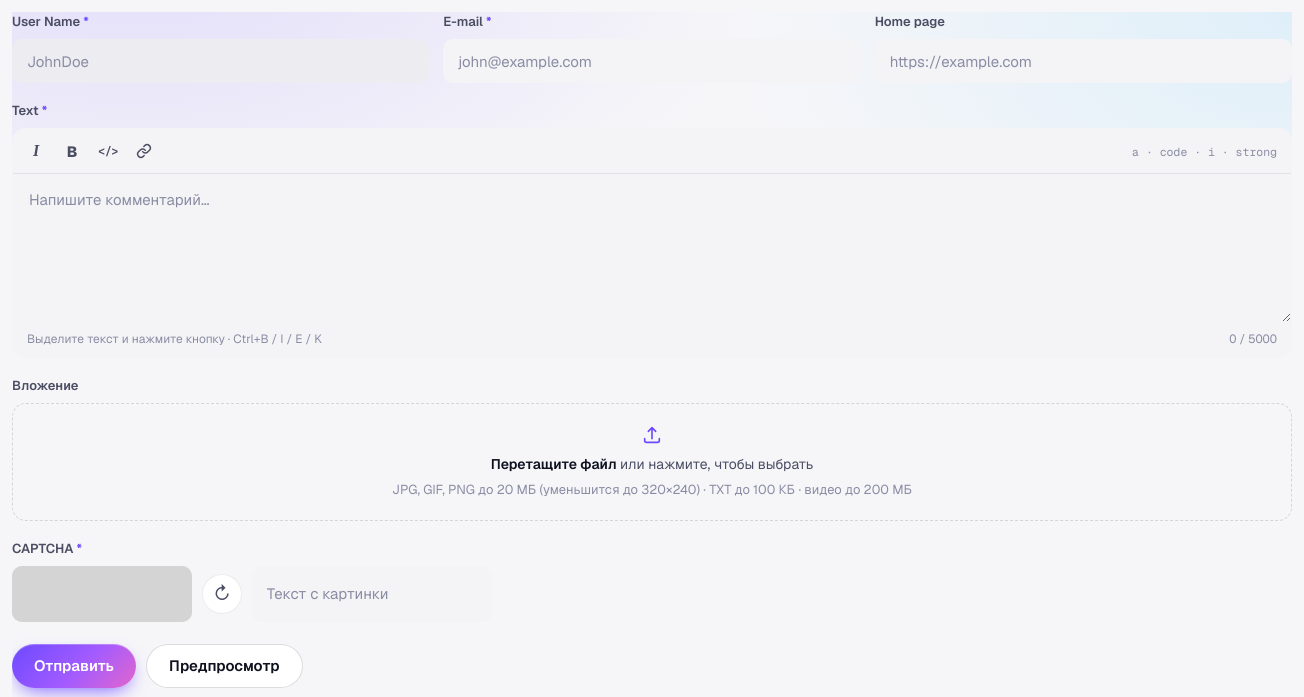
Test case: CommentForm › ошибки валидации сервера раскладываются по полям
Step 1. Type "  John1 " into the field with placeholder "JohnDoe" → (221, 61), box [12, 39, 429, 83]
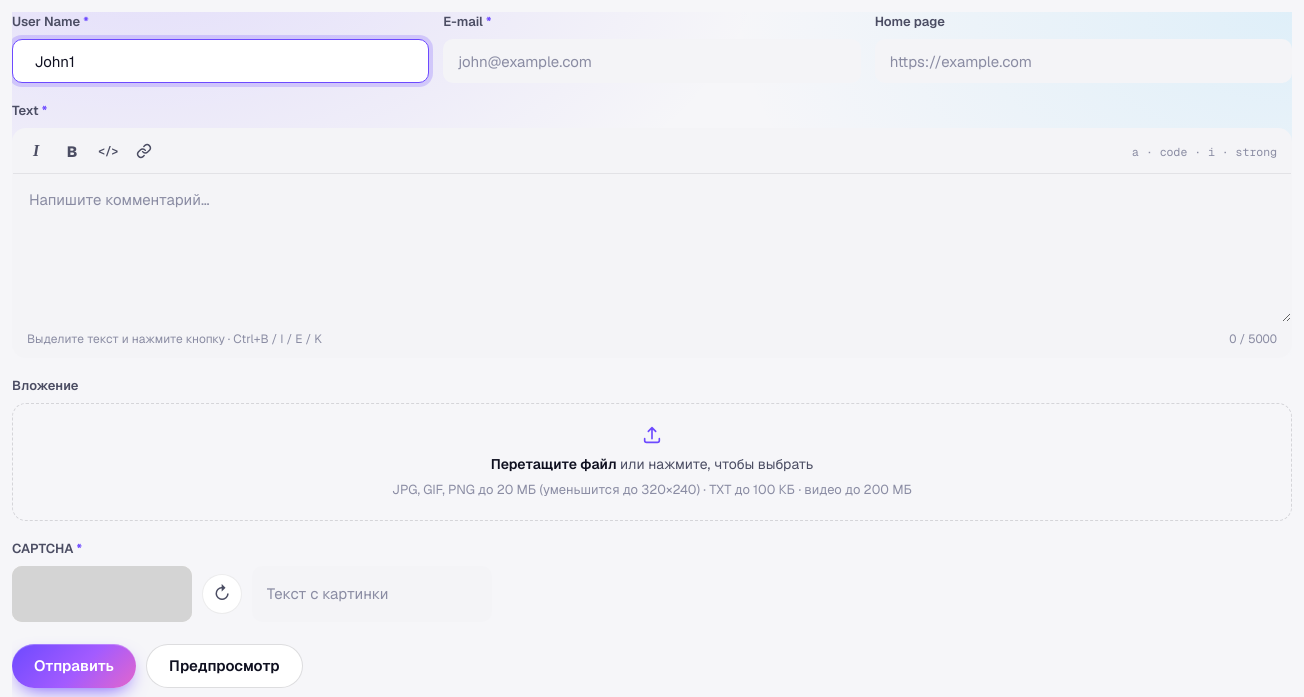
Step 2. Type "john@ex.com" into the field with placeholder "john@example.com" → (652, 61), box [443, 39, 861, 83]
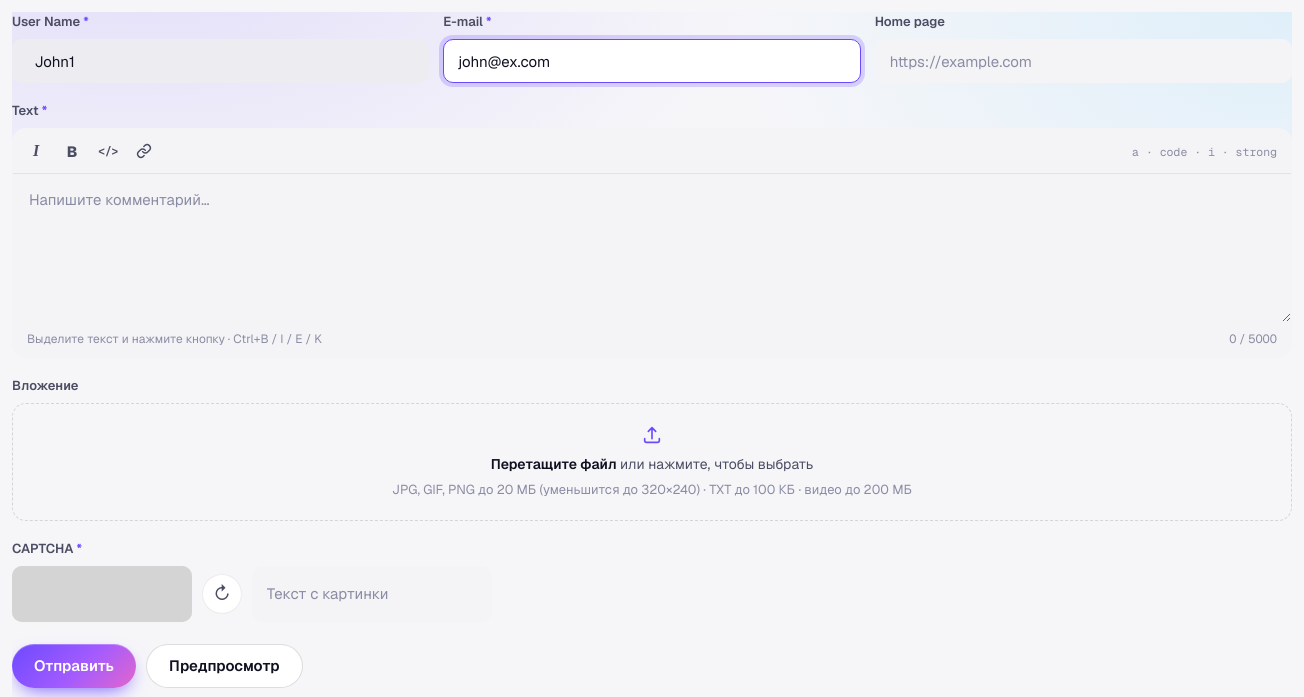
Step 3. Type "Hello <i>w</i>" into the text box labelled "Text *" → (652, 248), box [13, 174, 1291, 322]
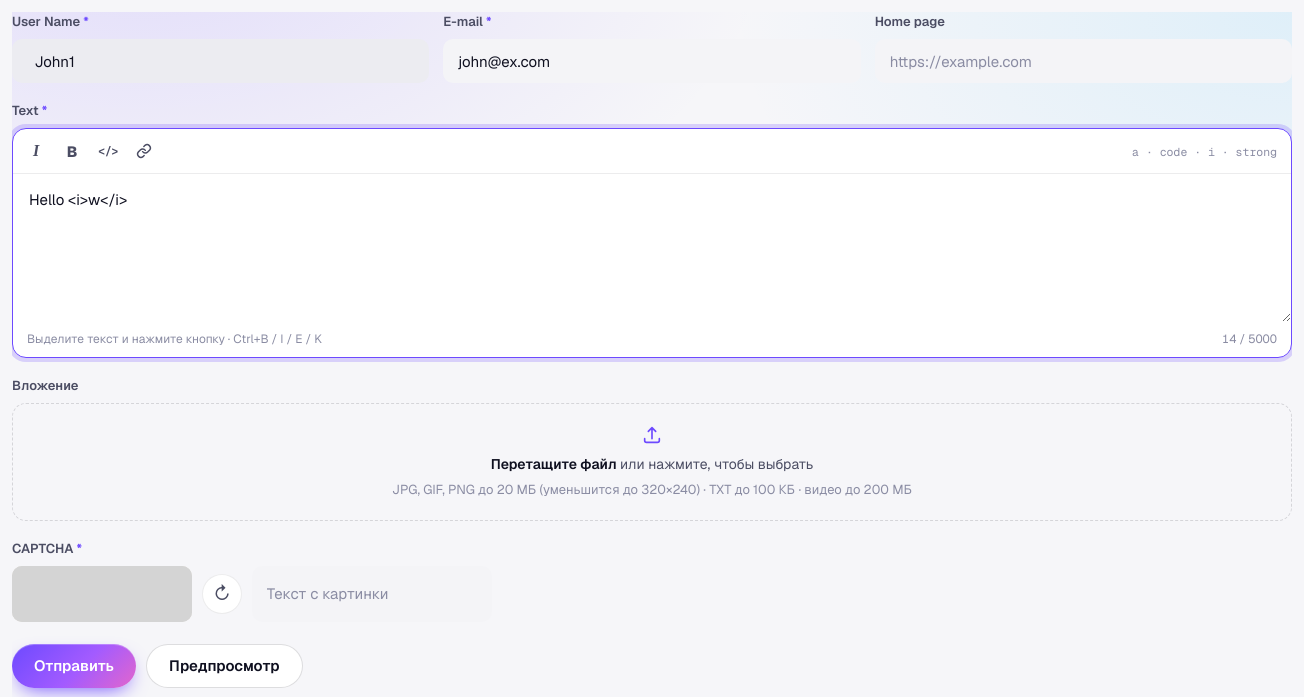
Step 4. Type " aB3 " into the field with placeholder "Текст с картинки" → (372, 594), box [252, 566, 492, 622]
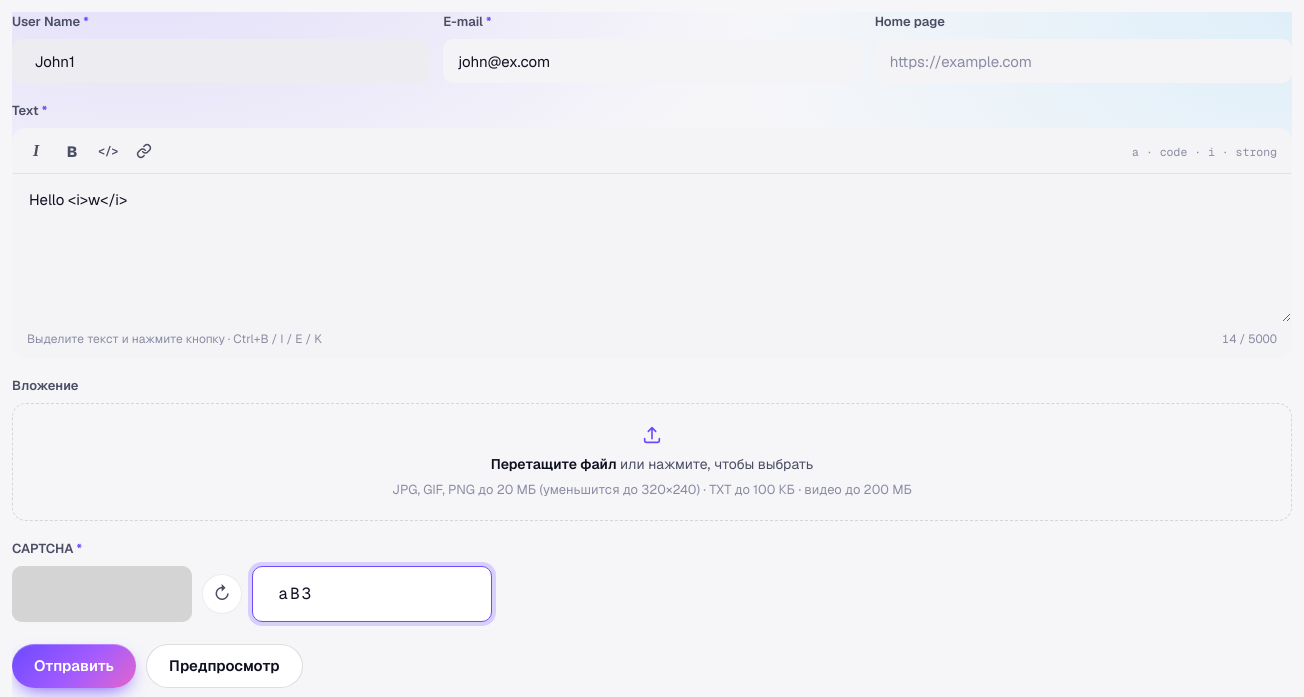
Step 5. Click the button "Отправить" → (74, 666), box [12, 644, 136, 688]
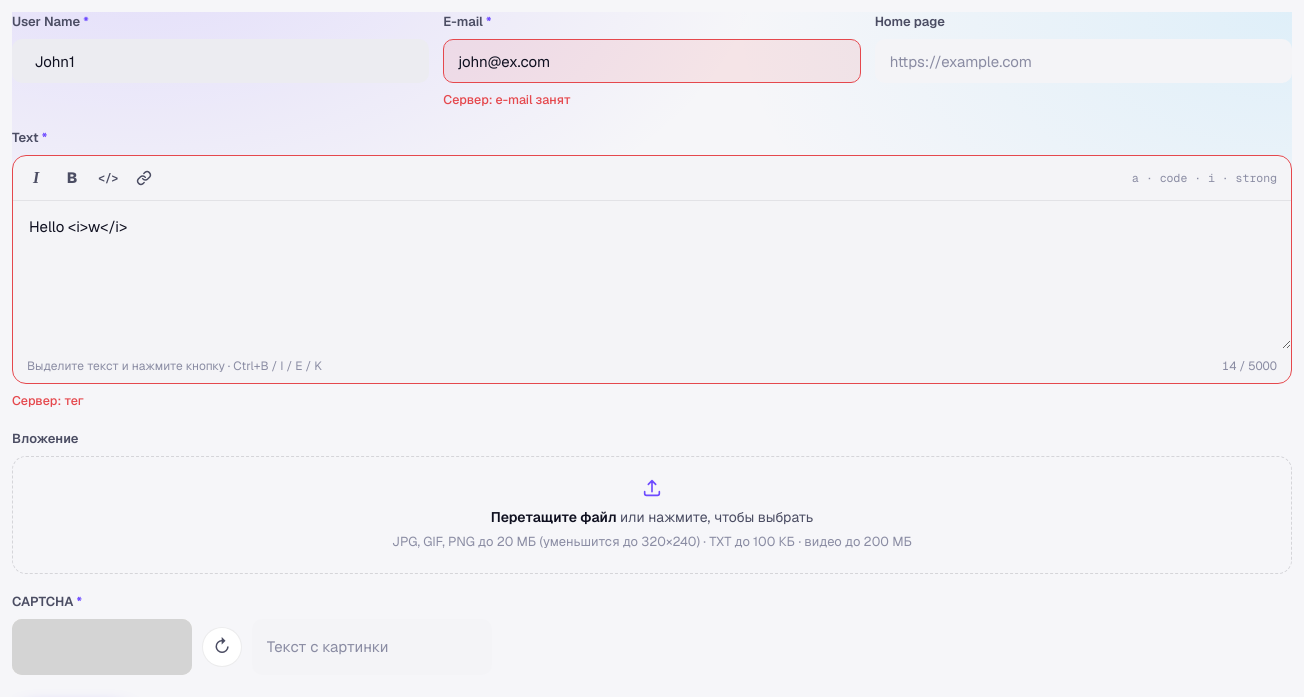
Expected: the text "Сервер: e-mail занят" is shown, [443, 91, 571, 108]
Expected: the text "Сервер: тег" is shown, [12, 392, 84, 409]
